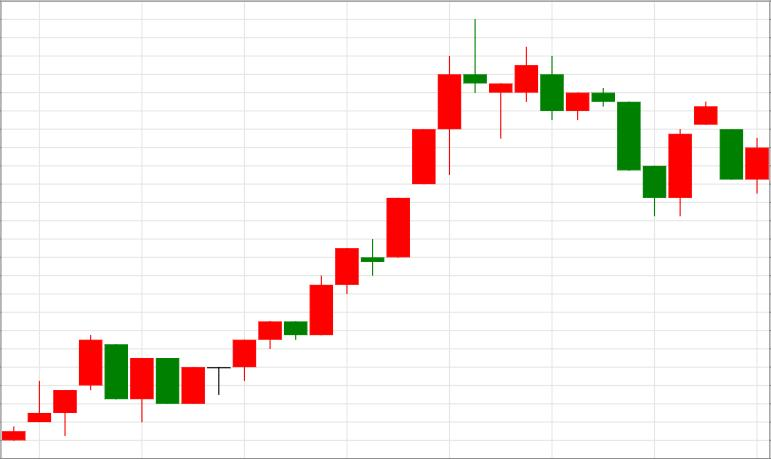bullish_engulfing_rise: (540, 56, 692, 217)
